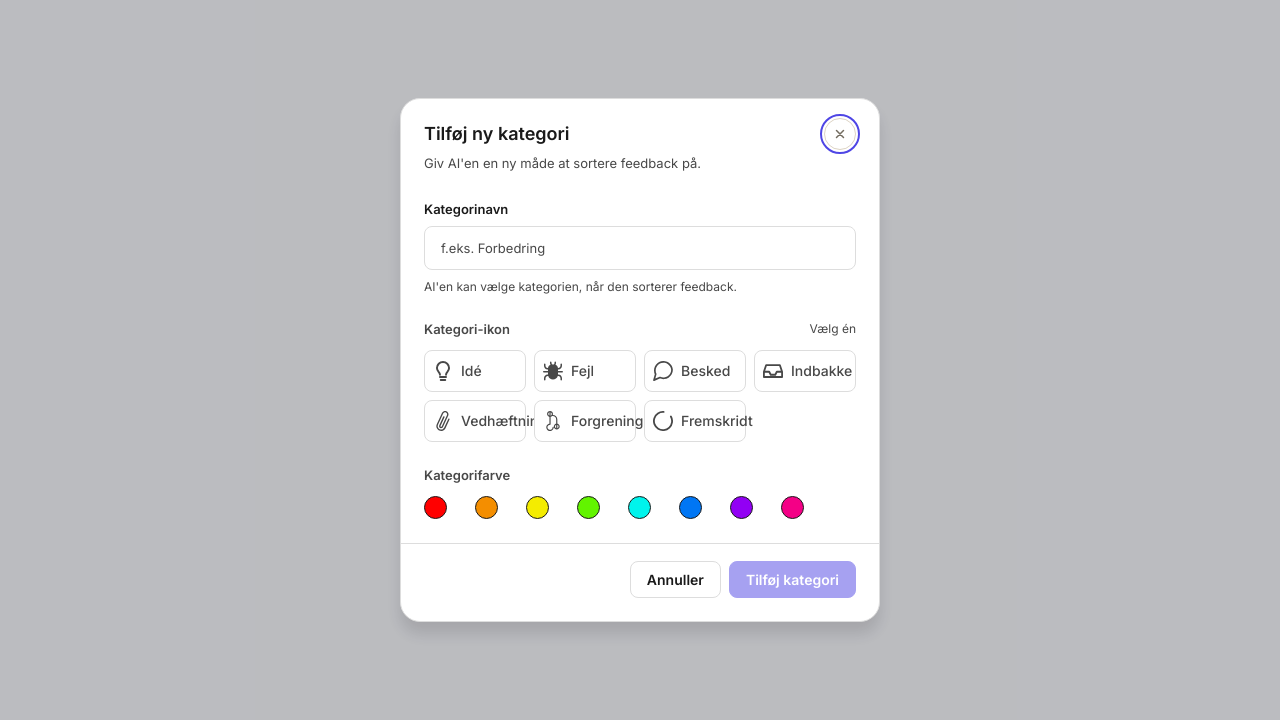
it: AddCategoryModal – bad names (US4) › hides the message as soon as the name changes
The image size is (1280, 720).
Type "Fejl" into the field labelled "Kategorinavn" at (640, 248), box [424,226,856,270]
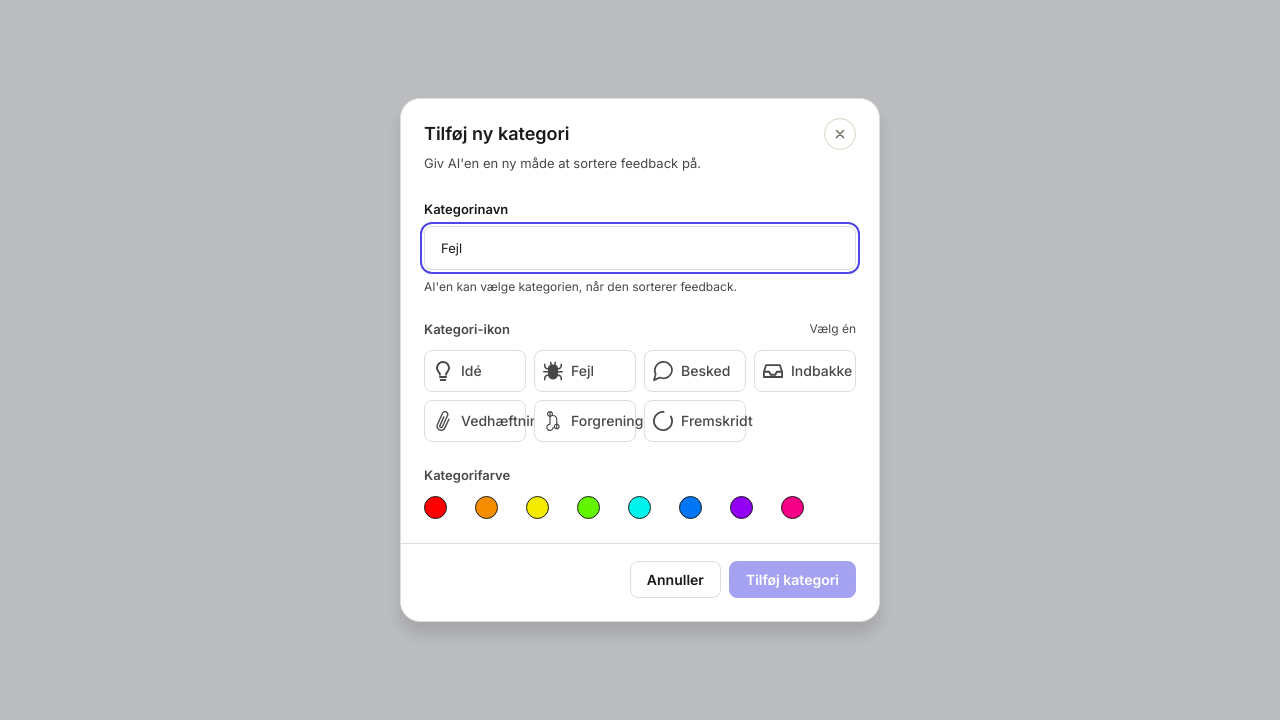
Click the 1st radio button labelled "Indbakke" at (805, 371), box [754,350,856,392]
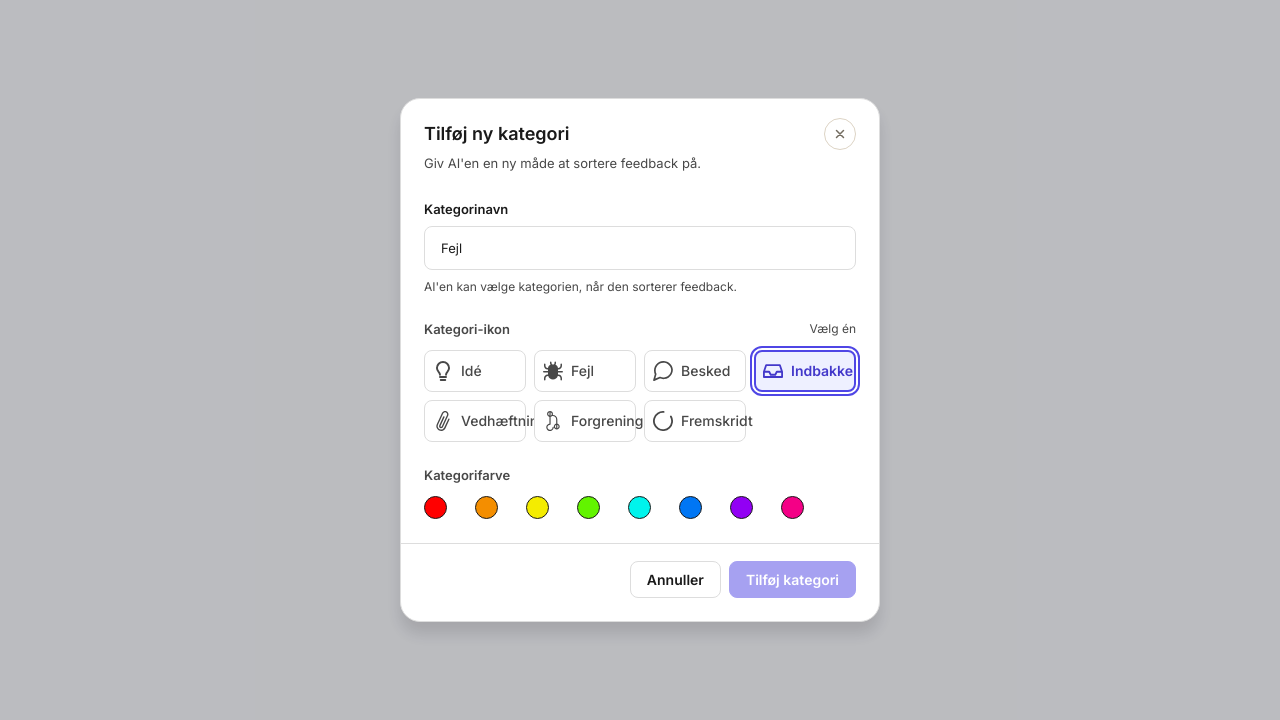
Click the radio button named "Blå" at (690, 508), box [679,496,702,519]
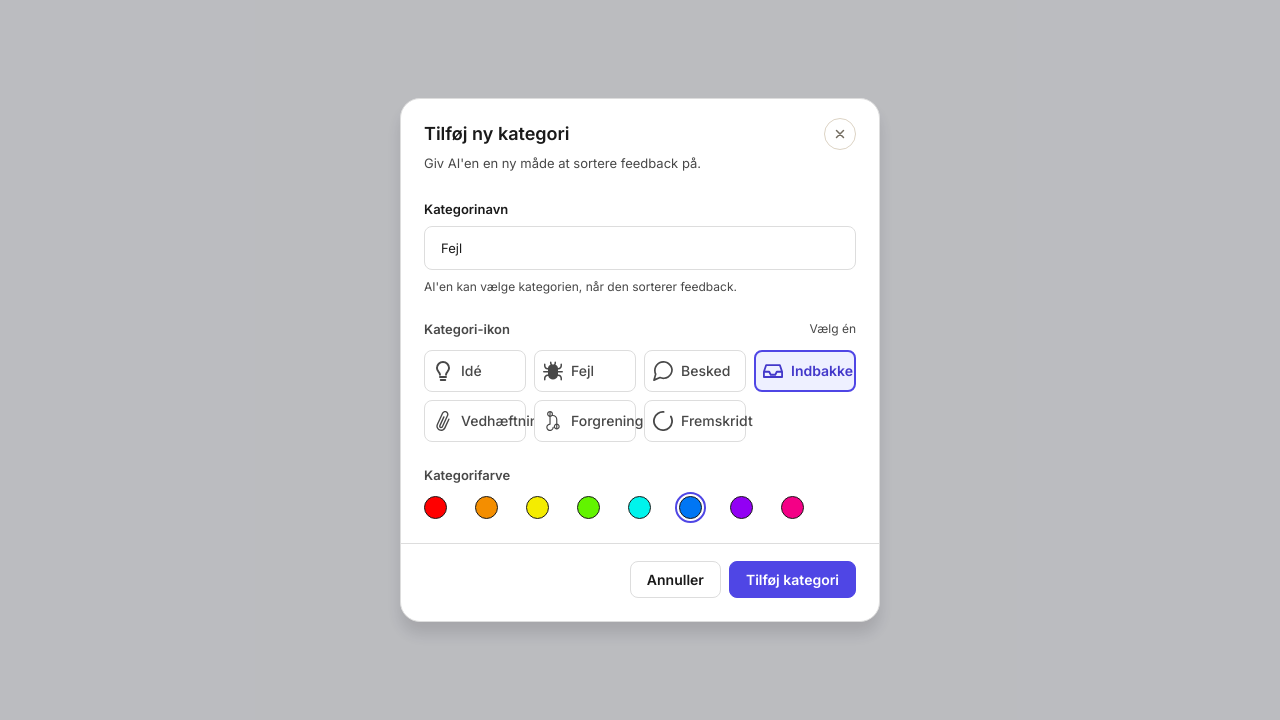
Click the button "Tilføj kategori" at (792, 580), box [729,561,856,598]
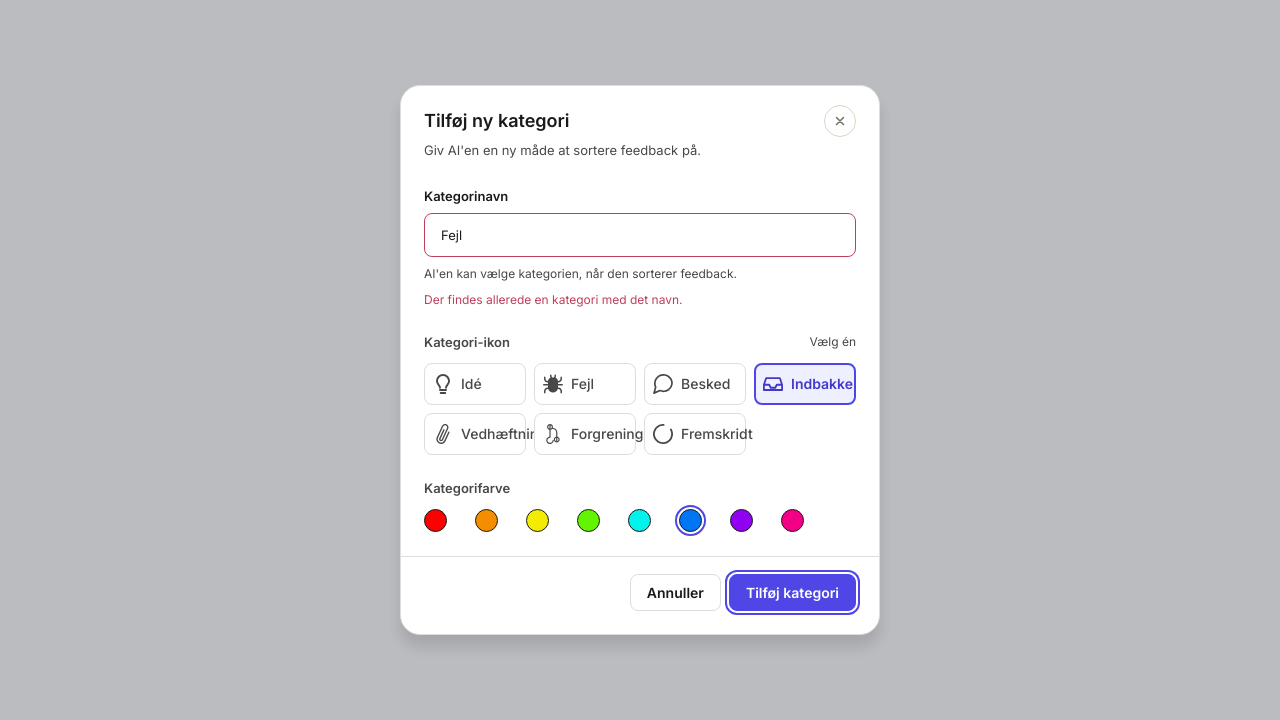
Type "s" into the field labelled "Kategorinavn" at (640, 235), box [424,213,856,257]
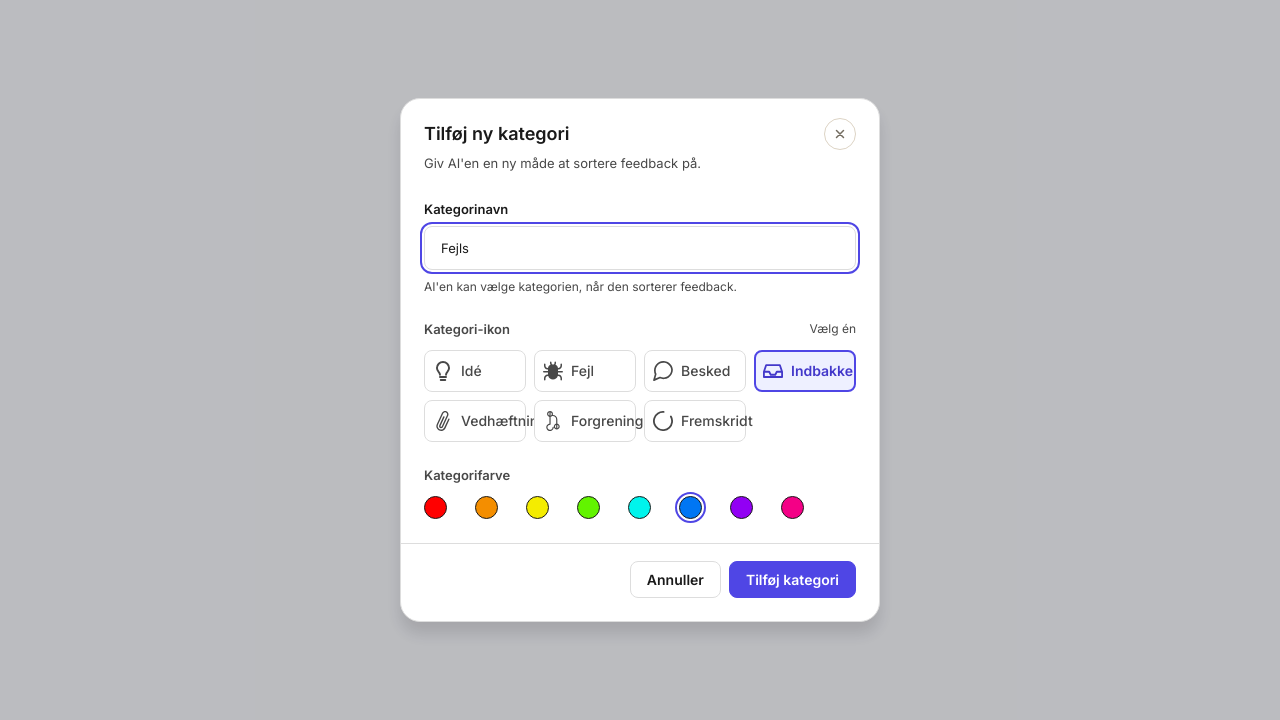
Check: the message "Der findes allerede en kategori med det navn." is gone
